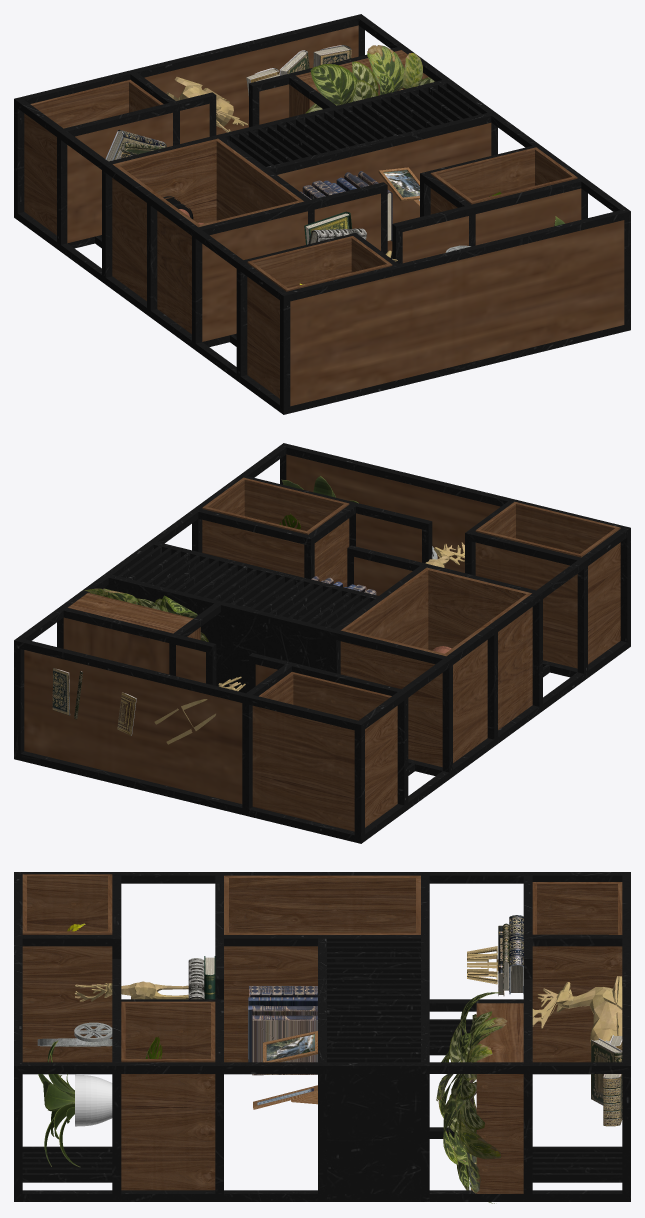
The model's file is Shelf.glb.
3 renders of one model, top to bottom at view 1: azimuth 30°, elevation 25°; view 2: azimuth 150°, elevation 25°; view 3: azimuth 270°, elevation 25°, orthographic. The views are drawn at different scales.
Visible parts, largest first — view 1: Shelf; view 2: Shelf; view 3: Shelf.
Boxes of the visible parts, x1=… form: Shelf: x1=14, y1=14, x2=630, y2=414; Shelf: x1=14, y1=443, x2=630, y2=843; Shelf: x1=14, y1=872, x2=630, y2=1203.
Size of the model in its own units: 1.75 by 0.759 by 2.25.
38 materials, 35 textured.
